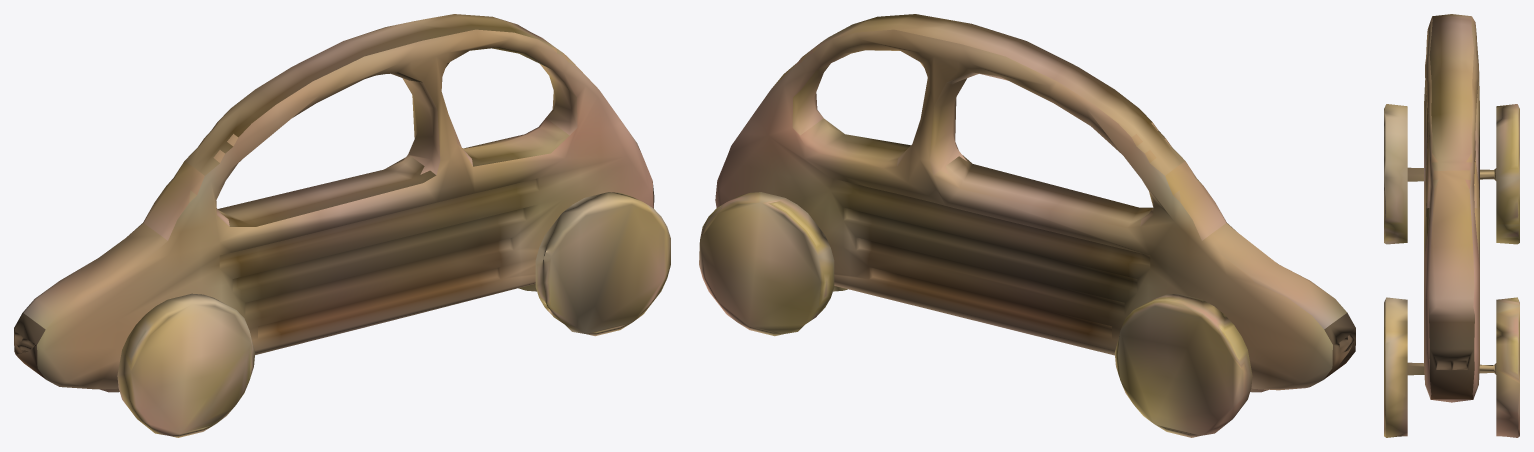
The model's file is toy_car.glb.
The picture shows the model from 3 angles, left to right: view 1: azimuth 30°, elevation 25°; view 2: azimuth 150°, elevation 25°; view 3: azimuth 270°, elevation 25°; orthographic projection. The views are drawn at different scales.
Visible parts, largest first — view 1: Car, Wheels; view 2: Car, Wheels; view 3: Car, Wheels.
Boxes of the visible parts, box(x1,y1,x2,y2) form: Car: box(14, 14, 654, 389); Wheels: box(100, 192, 670, 437); Car: box(715, 14, 1355, 390); Wheels: box(699, 192, 1268, 437); Car: box(1424, 14, 1479, 402); Wheels: box(1384, 104, 1519, 437).
Bounding box in the file's own units: 0.24 × 0.1173 × 0.0475.
Materials: 2 (2 with a texture image).
